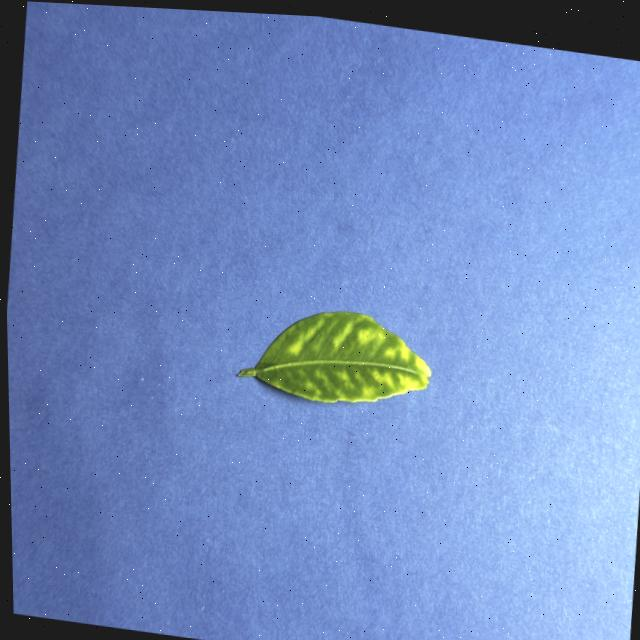greening: (237, 311, 431, 401)
